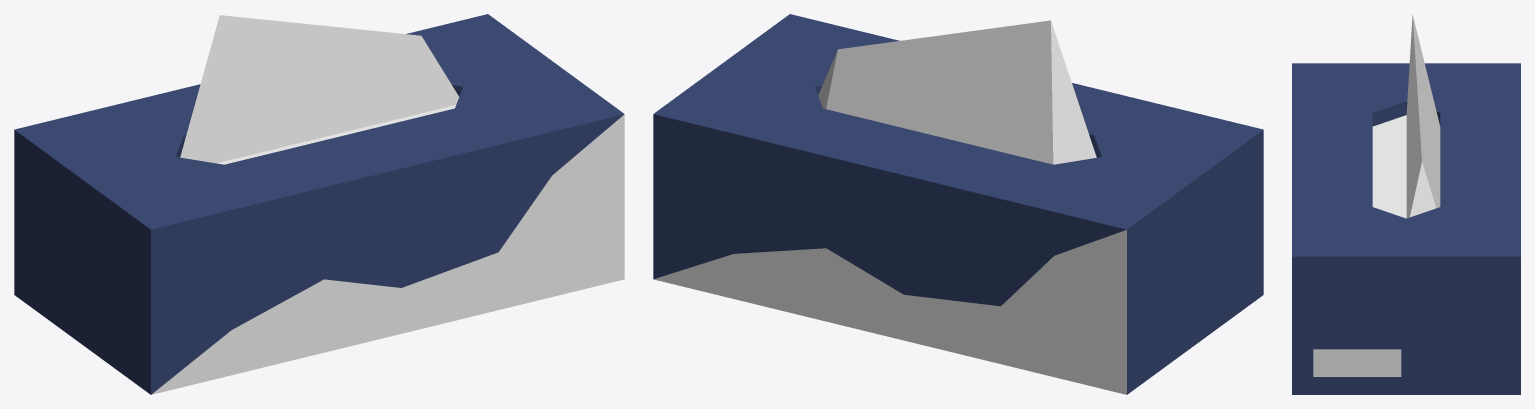
Rendered from furniture_napkin-box.fbx.
3 views of the same model, side by side, from view 1: azimuth 30°, elevation 25°; view 2: azimuth 150°, elevation 25°; view 3: azimuth 270°, elevation 25° (orthographic). The views are drawn at different scales.
Visible parts, largest first — view 1: furniture_napkin_box; view 2: furniture_napkin_box; view 3: furniture_napkin_box.
Boxes of the visible parts, x1,y1,x2,y2 form: furniture_napkin_box: [14, 14, 624, 394]; furniture_napkin_box: [653, 14, 1263, 394]; furniture_napkin_box: [1292, 15, 1520, 394].
Bounding box in the file's own units: 200 × 118 × 100.
